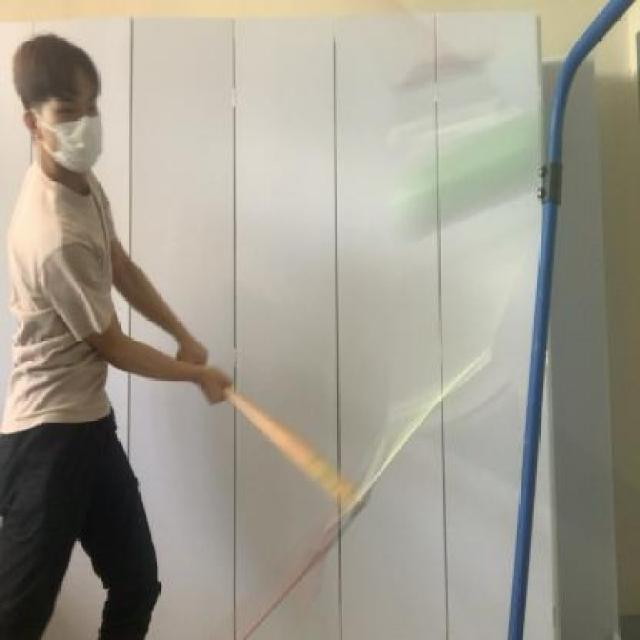baseball: (384, 92, 570, 262)
